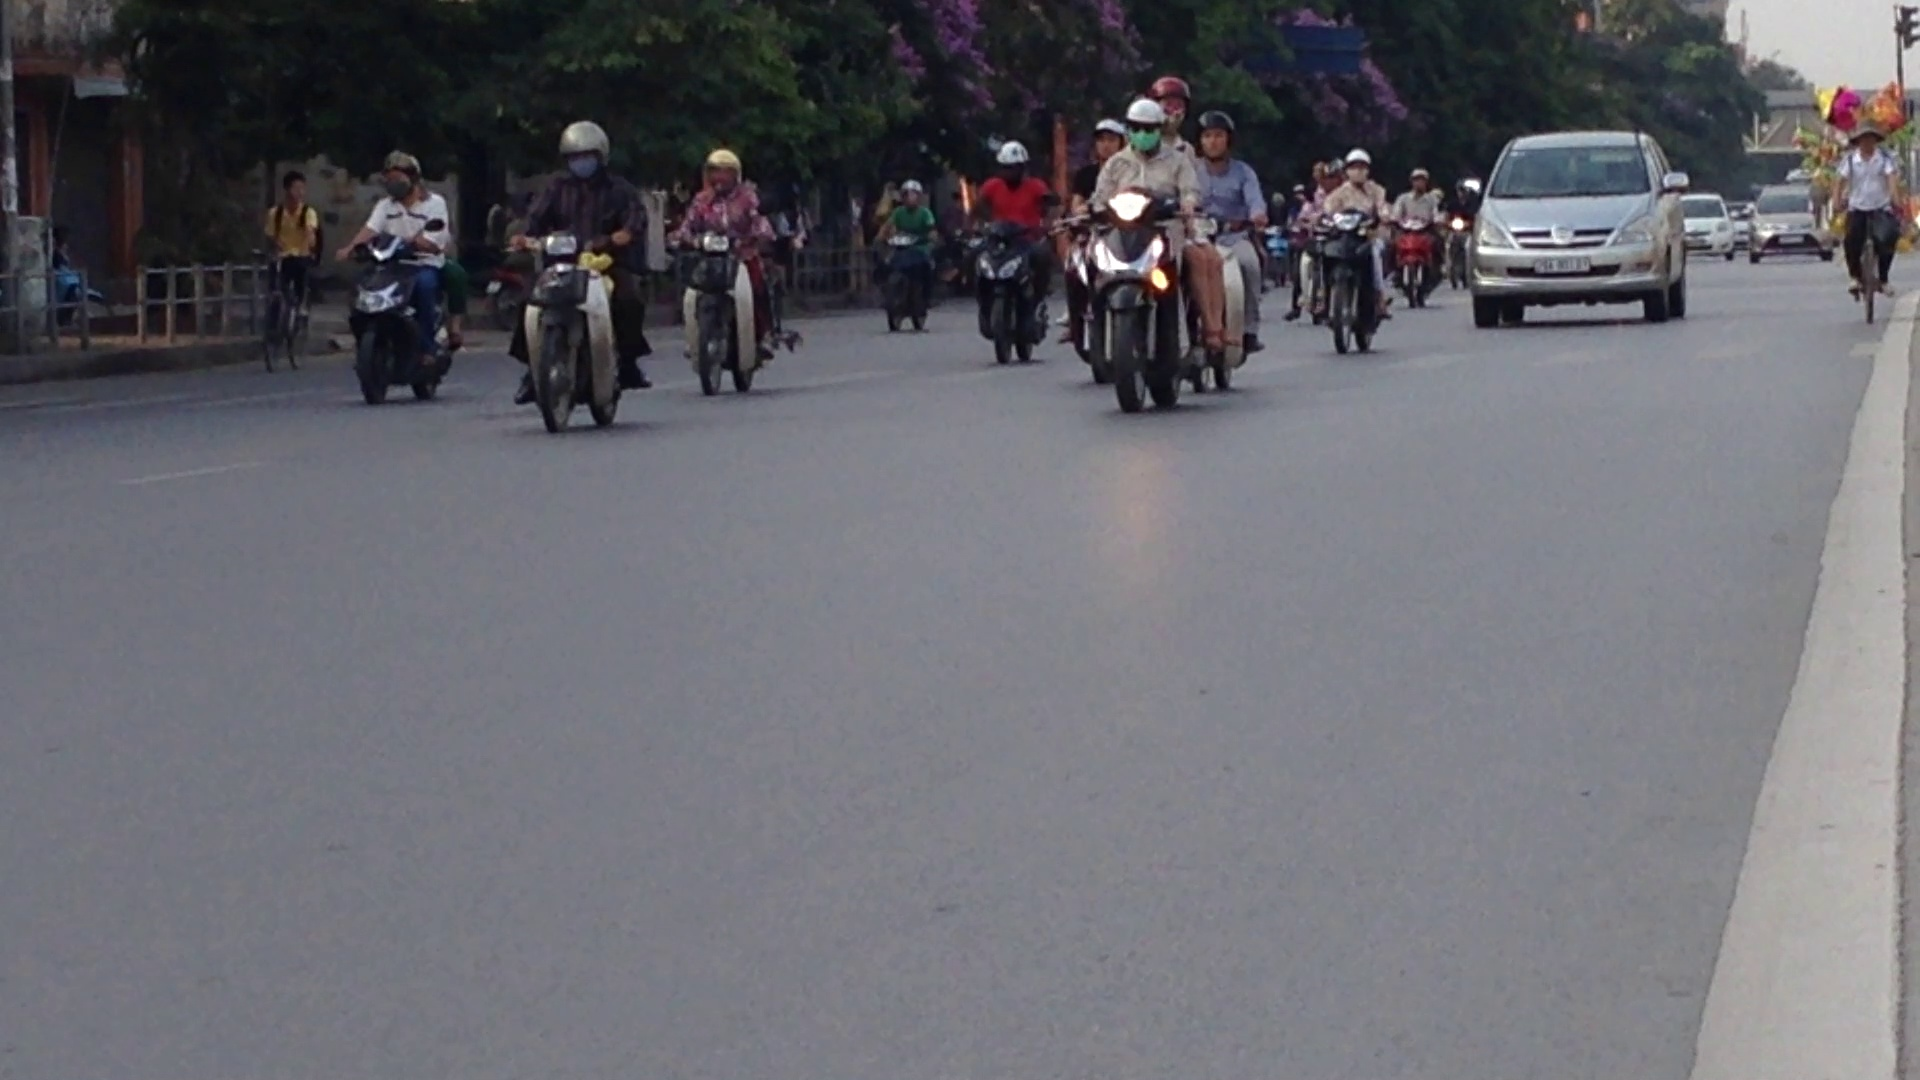person: (1527, 251, 1602, 275)
